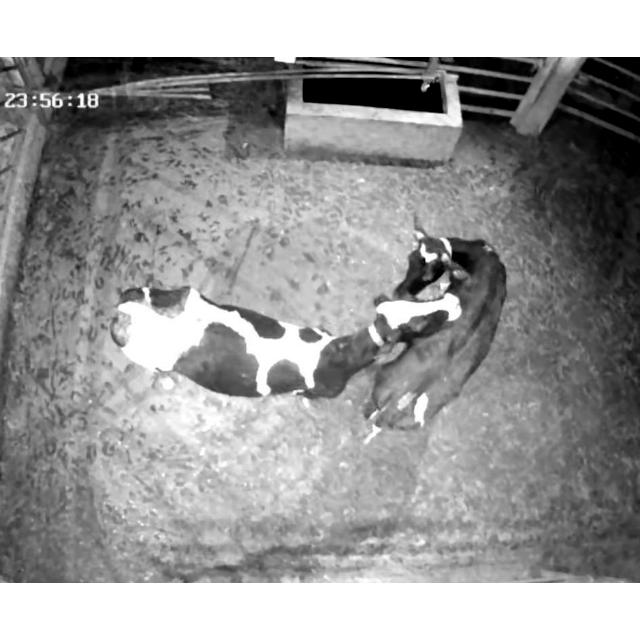propping: (342, 284, 488, 370)
